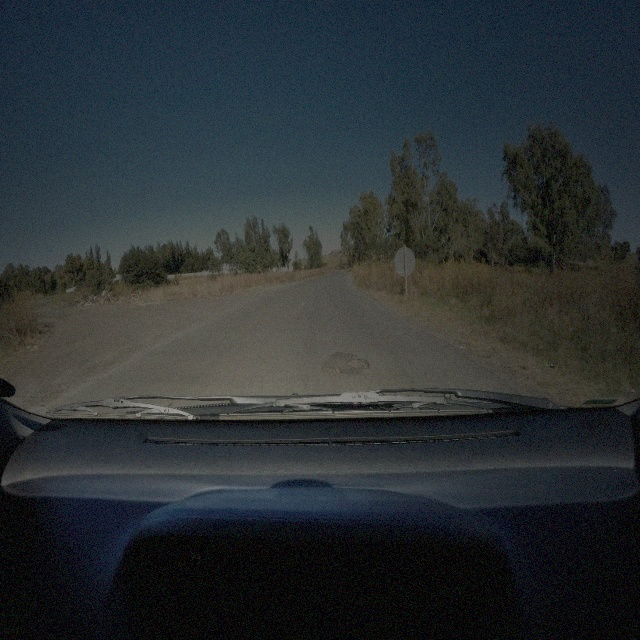pothole: (347, 355, 369, 369), (324, 363, 343, 376)
